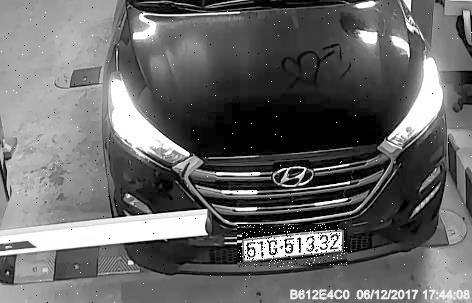License-plate: (239, 226, 350, 269)
